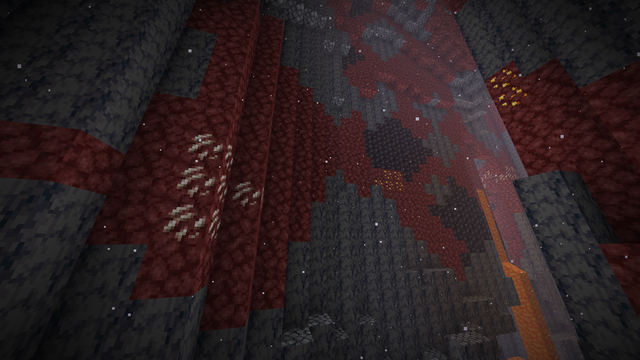nethergold: (485, 62, 530, 109), (375, 169, 403, 191)
quartz: (163, 132, 263, 242), (478, 165, 519, 184)
